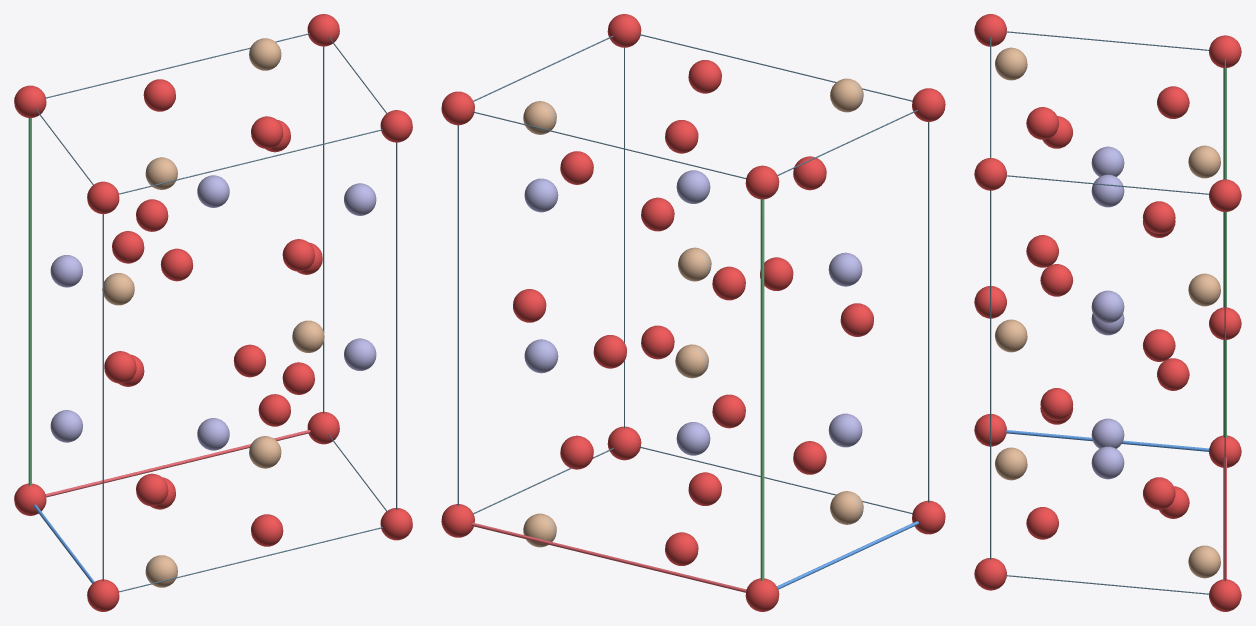
Rendered from thortveitite.glb.
The picture shows the model from 3 angles, left to right: view 1: azimuth 30°, elevation 25°; view 2: azimuth 150°, elevation 25°; view 3: azimuth 270°, elevation 25°; orthographic projection. The views are drawn at different scales.
Visible parts, largest first — view 1: O1 · O · 1 (×10), Ô mạng và các trục a, b, c, O3 · O · 1 (×6), Si · Si · 0.98 (×6), Sc · Sc · 0.56 (×6), O2 · O · 1 (×4); view 2: O1 · O · 1 (×10), Ô mạng và các trục a, b, c, O3 · O · 1 (×8), O2 · O · 1 (×6), Si · Si · 0.98 (×6), Y · Y · 0.44 (×6); view 3: O1 · O · 1 (×10), Si · Si · 0.98 (×6), O3 · O · 1 (×6), O2 · O · 1 (×6), Ô mạng và các trục a, b, c, Sc · Sc · 0.56 (×5).
Part boxes in pixels (x1,y1,x2,y2): O1 · O · 1 (×10): [14, 14, 412, 611]; Ô mạng và các trục a, b, c: [28, 33, 397, 592]; O3 · O · 1 (×6): [112, 199, 314, 506]; Si · Si · 0.98 (×6): [102, 38, 324, 587]; Sc · Sc · 0.56 (×6): [52, 176, 376, 450]; O2 · O · 1 (×4): [104, 79, 283, 546]; O1 · O · 1 (×10): [441, 14, 945, 611]; Ô mạng và các trục a, b, c: [457, 34, 929, 592]; O3 · O · 1 (×8): [560, 151, 826, 474]; O2 · O · 1 (×6): [513, 60, 873, 565]; Si · Si · 0.98 (×6): [523, 78, 863, 547]; Y · Y · 0.44 (×6): [524, 172, 860, 455]; O1 · O · 1 (×10): [974, 14, 1241, 611]; Si · Si · 0.98 (×6): [995, 47, 1220, 578]; O3 · O · 1 (×6): [1040, 116, 1175, 509]; O2 · O · 1 (×6): [1026, 86, 1189, 539]; Ô mạng và các trục a, b, c: [990, 31, 1226, 594]; Sc · Sc · 0.56 (×5): [1091, 146, 1113, 479].
Size of the model in its own units: 8.28 by 9.26 by 5.22.
